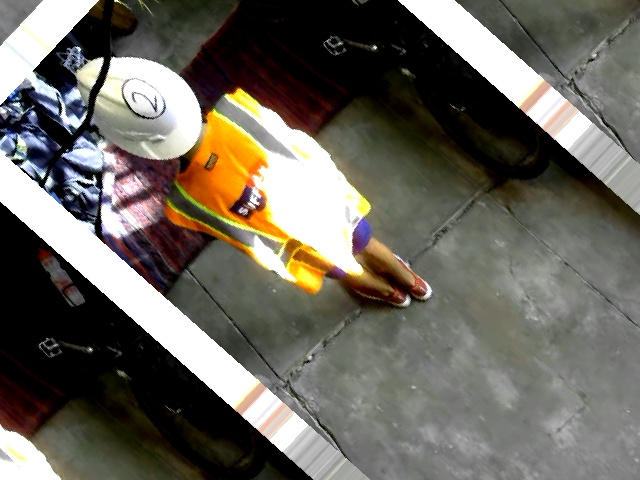two: (112, 69, 172, 126)
